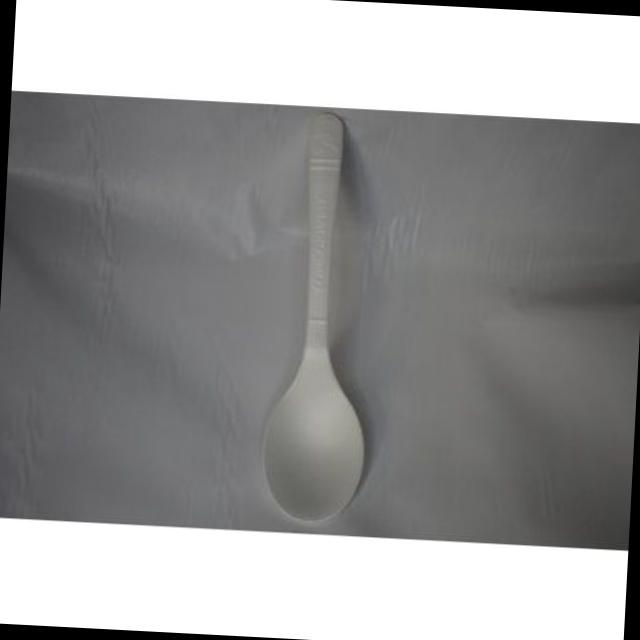spoon: (254, 106, 393, 528)
